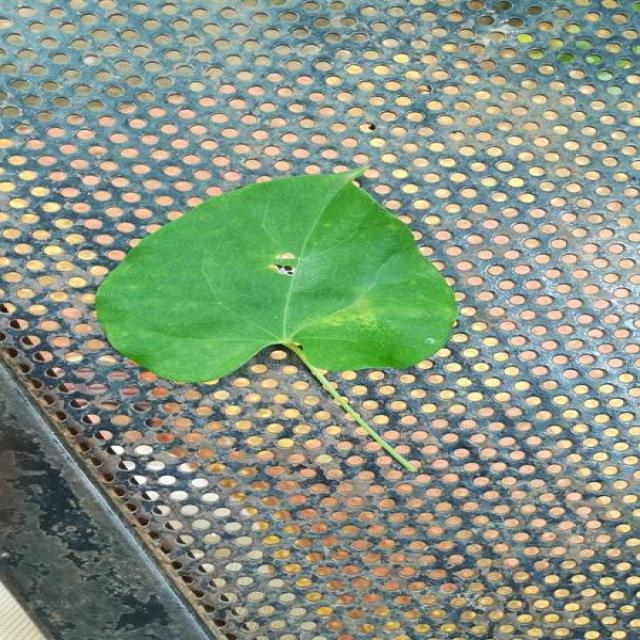Amruthaballi: (97, 167, 458, 472)
defectedAmruthaballi: (208, 190, 417, 344)
